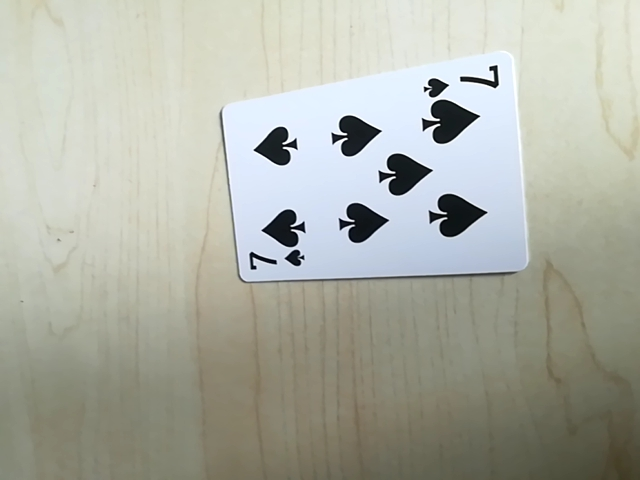ht 7: (420, 60, 505, 95), (241, 247, 309, 280)
